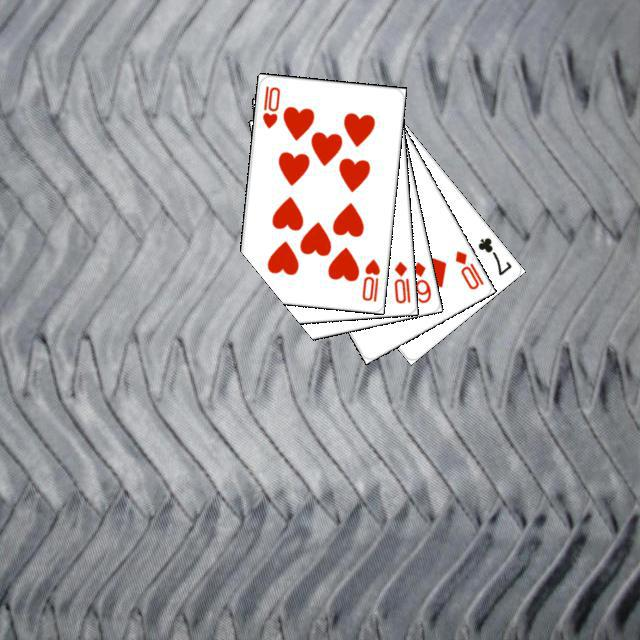10d: (450, 245, 486, 291), (389, 256, 412, 305)
10h: (357, 254, 382, 303), (257, 81, 282, 130)
6d: (408, 257, 433, 305)
7c: (473, 232, 514, 277)
